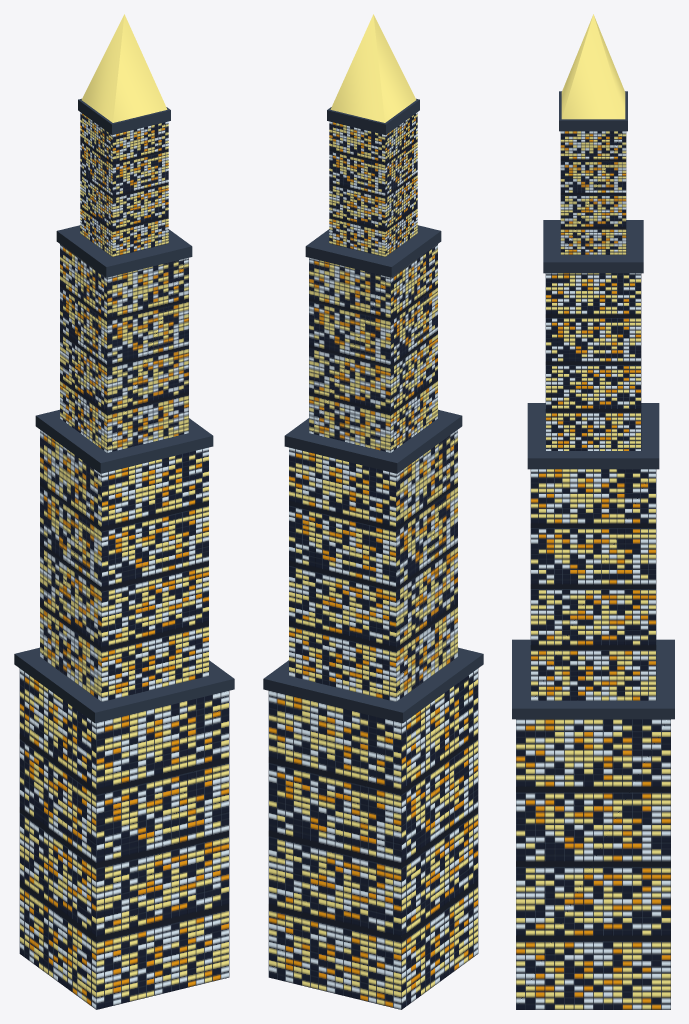
Rendered from skyline-v2-left-stepped.glb.
3 renders of one model, left to right at view 1: azimuth 30°, elevation 25°; view 2: azimuth 150°, elevation 25°; view 3: azimuth 270°, elevation 25°, orthographic.
Bounding box in the file's own units: 2.73 × 17.8 × 2.73.
6 materials, 1 textured.
